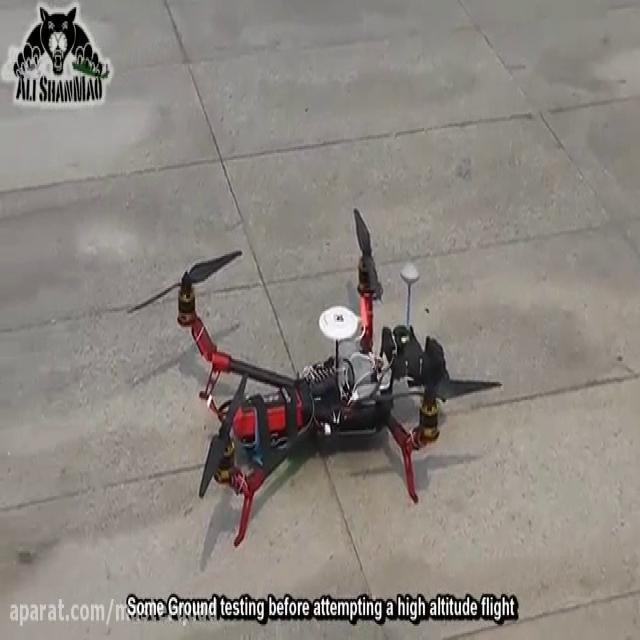drones: (121, 198, 504, 568)
